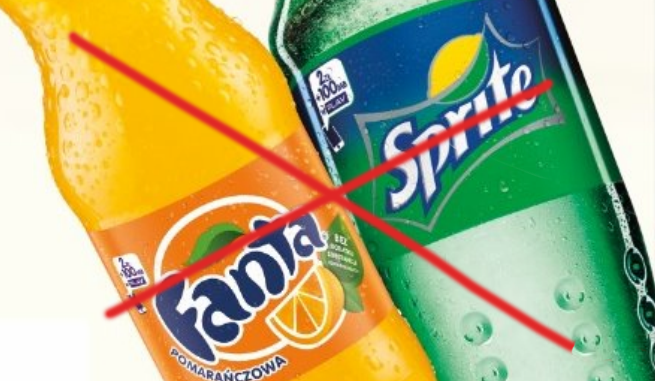sprite: (382, 48, 536, 210), (385, 48, 536, 210)
